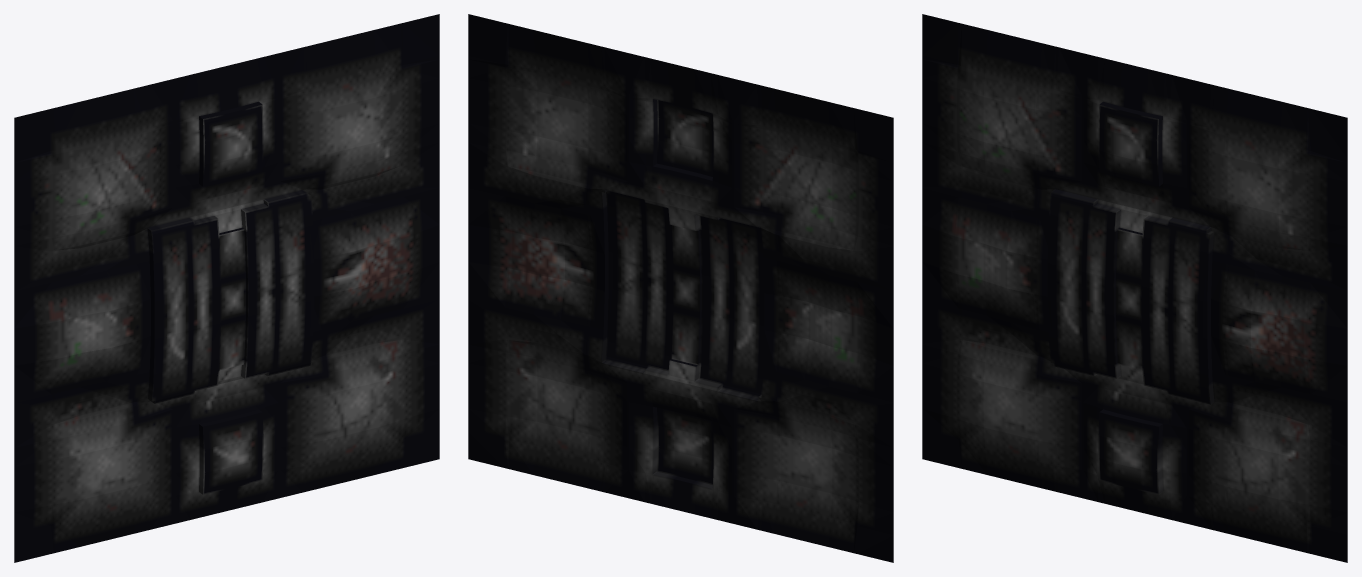
File: reac6_1.fbx
The picture shows the model from 3 angles, left to right: view 1: azimuth 30°, elevation 25°; view 2: azimuth 150°, elevation 25°; view 3: azimuth 330°, elevation 25°; orthographic projection.
Visible parts, largest first — view 1: reac6_1_mesh; view 2: reac6_1_mesh; view 3: reac6_1_mesh.
Part boxes in pixels (<box>): reac6_1_mesh: <box>14,14,439,562</box>; reac6_1_mesh: <box>468,14,893,562</box>; reac6_1_mesh: <box>922,14,1347,562</box>.
Bounding box in the file's own units: 256 × 256 × 8.
